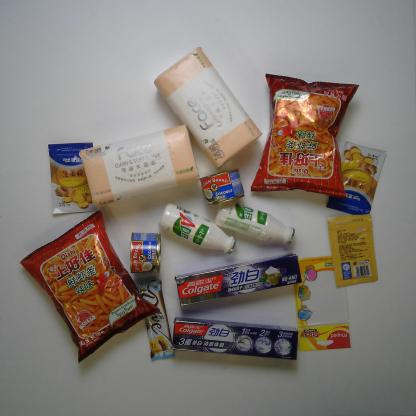Canned Food: (192, 168, 250, 209), (124, 226, 163, 276)
Chocolate: (134, 270, 177, 362)
Milk: (152, 198, 241, 257), (212, 194, 302, 248)
Personal Hygiene: (175, 252, 306, 309), (169, 314, 303, 365)
Puffed Food: (17, 207, 165, 365), (246, 66, 365, 199)
Seasoner: (325, 136, 389, 218), (322, 208, 383, 290), (44, 134, 102, 218)
Stationery: (289, 253, 358, 354)
Tissue: (151, 45, 267, 171), (72, 119, 204, 211)
